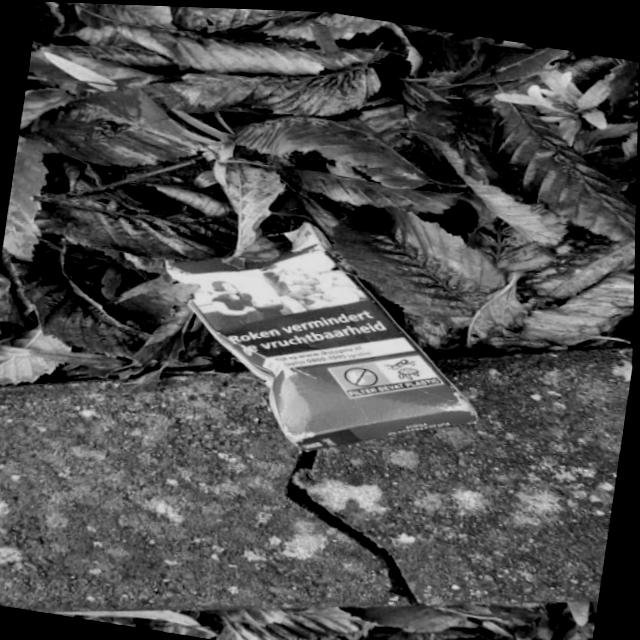Paper: (136, 194, 509, 478)
